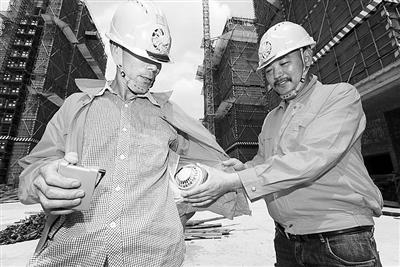helmet: (103, 1, 173, 63), (256, 23, 318, 71)
